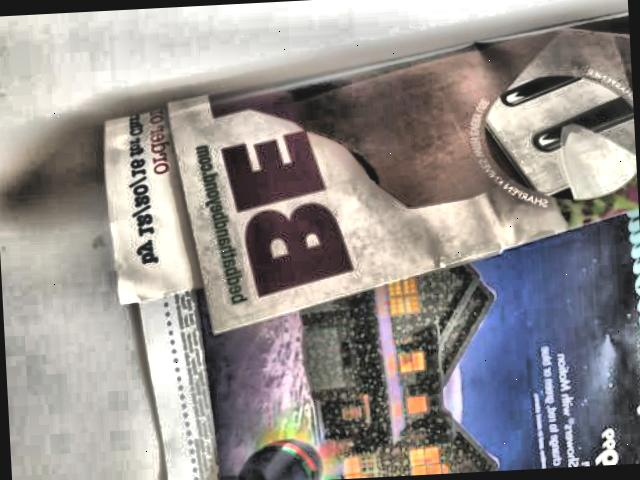Paper: (95, 5, 640, 480)
